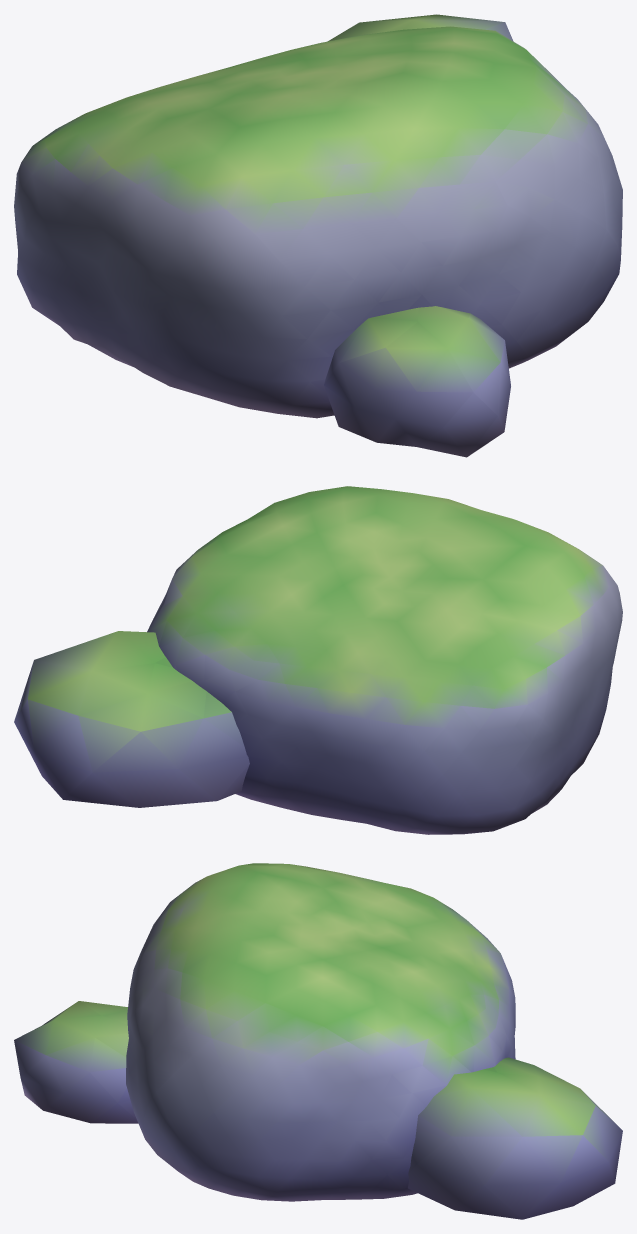
Rendered from verdant_rock_river_b.glb.
3 views of the same model, one above another, from view 1: azimuth 30°, elevation 25°; view 2: azimuth 150°, elevation 25°; view 3: azimuth 270°, elevation 25° (orthographic). The views are drawn at different scales.
Parts seen in each view (by area): view 1: verdant_rock_river_b; view 2: verdant_rock_river_b; view 3: verdant_rock_river_b.
Part boxes in pixels (box(x1,y1,x2,y2)): verdant_rock_river_b: box(14, 14, 622, 457); verdant_rock_river_b: box(14, 486, 622, 834); verdant_rock_river_b: box(14, 863, 622, 1219).
Bounding box in the file's own units: 5.06 × 2.28 × 5.97.
